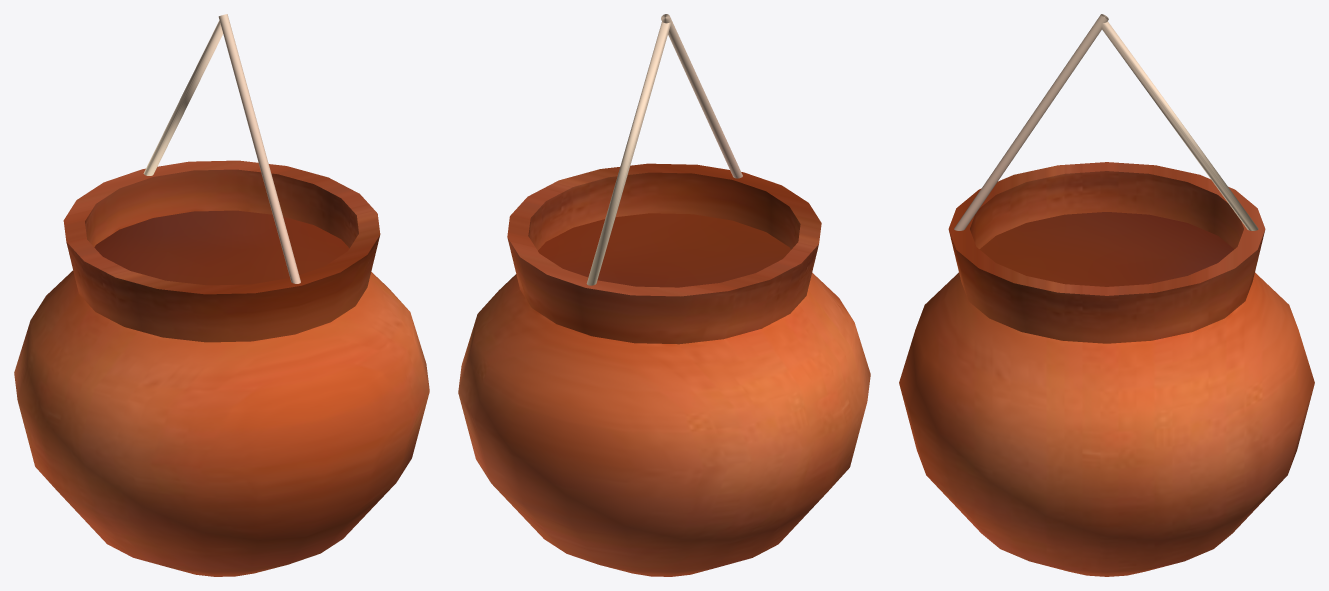
File: beforeBroken.fbx
The picture shows the model from 3 angles, left to right: view 1: azimuth 30°, elevation 25°; view 2: azimuth 150°, elevation 25°; view 3: azimuth 270°, elevation 25°; orthographic projection.
Parts seen in each view (by area): view 1: Cylinder, Cylinder.001; view 2: Cylinder, Cylinder.001; view 3: Cylinder, Cylinder.001.
Boxes of the visible parts, x1=… form: Cylinder: x1=14, y1=160, x2=429, y2=576; Cylinder.001: x1=143, y1=14, x2=300, y2=283; Cylinder: x1=458, y1=163, x2=870, y2=576; Cylinder.001: x1=586, y1=14, x2=742, y2=285; Cylinder: x1=899, y1=162, x2=1314, y2=576; Cylinder.001: x1=954, y1=14, x2=1258, y2=230.
Size of the model in its own units: 263 by 373 by 263.
